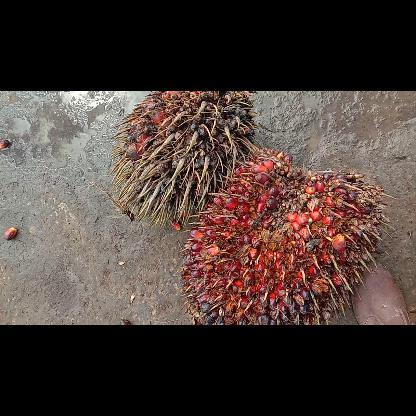TBS abnormal: (110, 91, 258, 230)
TBS masak: (180, 148, 388, 324)
